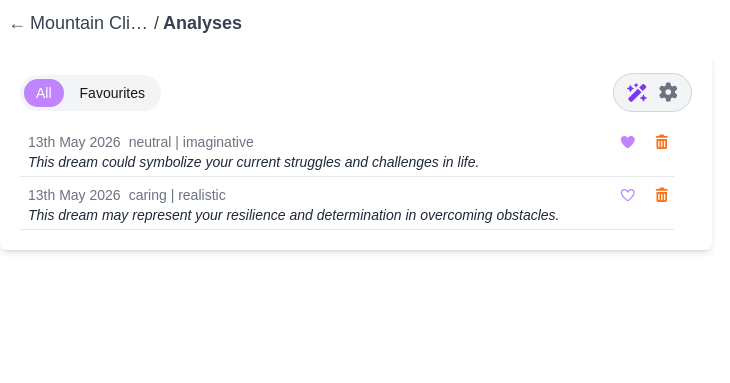
Test: Settings should: › Be visible when settings button is clicked.
Click the button named "Settings": click(668, 92) x1=656 y1=78 x2=679 y2=107
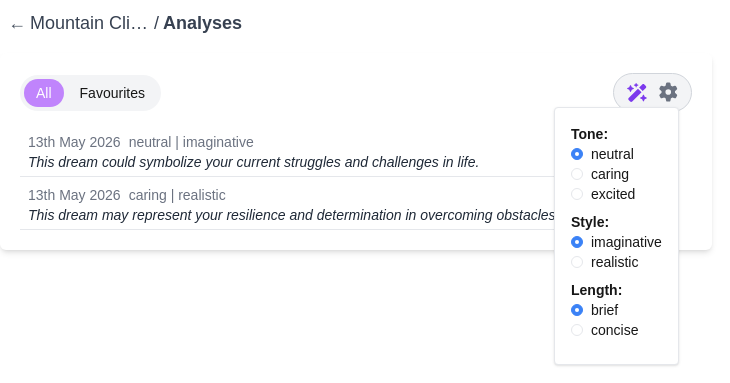
Expected: the text "Tone:" is shown, x1=571 y1=126 x2=608 y2=142
Expected: the text "Style:" is shown, x1=571 y1=214 x2=609 y2=230
Expected: the text "Length:" is shown, x1=571 y1=282 x2=622 y2=298
